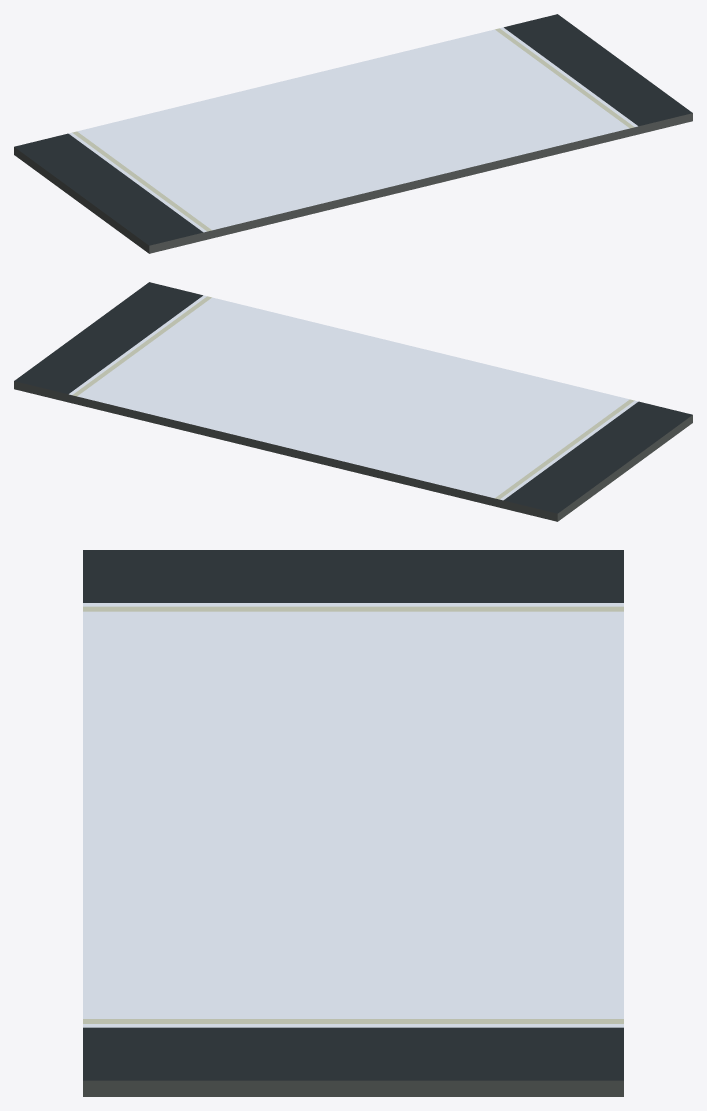
File: CrestRoadSection.obj
3 views of the same model, one above another, from view 1: azimuth 30°, elevation 25°; view 2: azimuth 150°, elevation 25°; view 3: azimuth 270°, elevation 25° (orthographic). The views are drawn at different scales.
Size of the model in its own units: 17.5 by 0.25 by 7.54.
